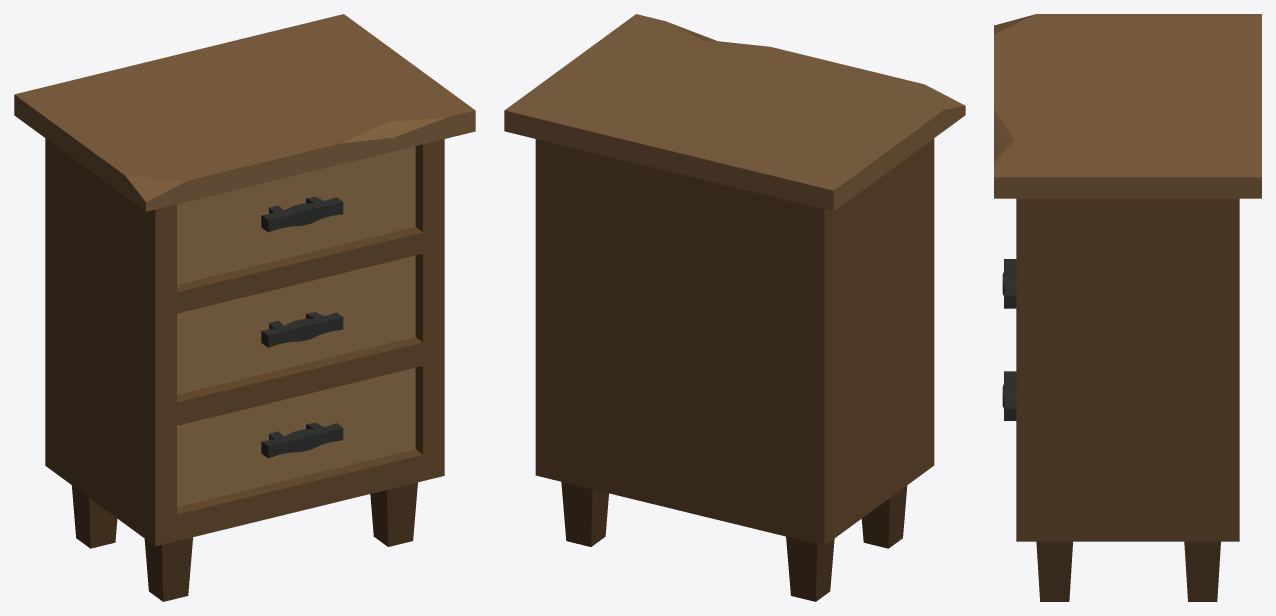
The model's file is SM_Prop_Dresser_06.obj.
3 views of the same model, side by side, from view 1: azimuth 30°, elevation 25°; view 2: azimuth 150°, elevation 25°; view 3: azimuth 270°, elevation 25° (orthographic).
Visible parts, largest first — view 1: SM_Prop_Dresser_06_Mat_SwatchOverlay_Farm_01_Wood_Inst, SM_Prop_Dresser_06_Mat_SwatchOverlay_Farm_01_Inst; view 2: SM_Prop_Dresser_06_Mat_SwatchOverlay_Farm_01_Wood_Inst; view 3: SM_Prop_Dresser_06_Mat_SwatchOverlay_Farm_01_Wood_Inst, SM_Prop_Dresser_06_Mat_SwatchOverlay_Farm_01_Inst.
Boxes of the visible parts, bbox=[...] form: SM_Prop_Dresser_06_Mat_SwatchOverlay_Farm_01_Wood_Inst: bbox=[14, 14, 475, 601]; SM_Prop_Dresser_06_Mat_SwatchOverlay_Farm_01_Inst: bbox=[261, 196, 343, 458]; SM_Prop_Dresser_06_Mat_SwatchOverlay_Farm_01_Wood_Inst: bbox=[504, 14, 965, 601]; SM_Prop_Dresser_06_Mat_SwatchOverlay_Farm_01_Wood_Inst: bbox=[994, 14, 1261, 601]; SM_Prop_Dresser_06_Mat_SwatchOverlay_Farm_01_Inst: bbox=[1002, 259, 1016, 420].
Size of the model in its own units: 0.6441 by 0.8167 by 0.4462.
2 materials, 2 textured.
